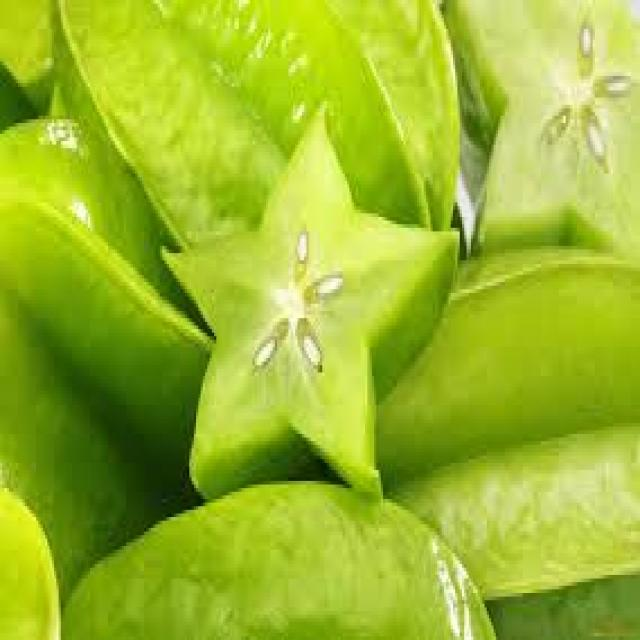organic waste: (156, 98, 460, 502), (50, 0, 458, 275), (345, 257, 638, 636), (0, 116, 223, 535), (58, 474, 496, 636), (441, 0, 637, 260), (0, 478, 61, 636), (0, 0, 54, 112)
